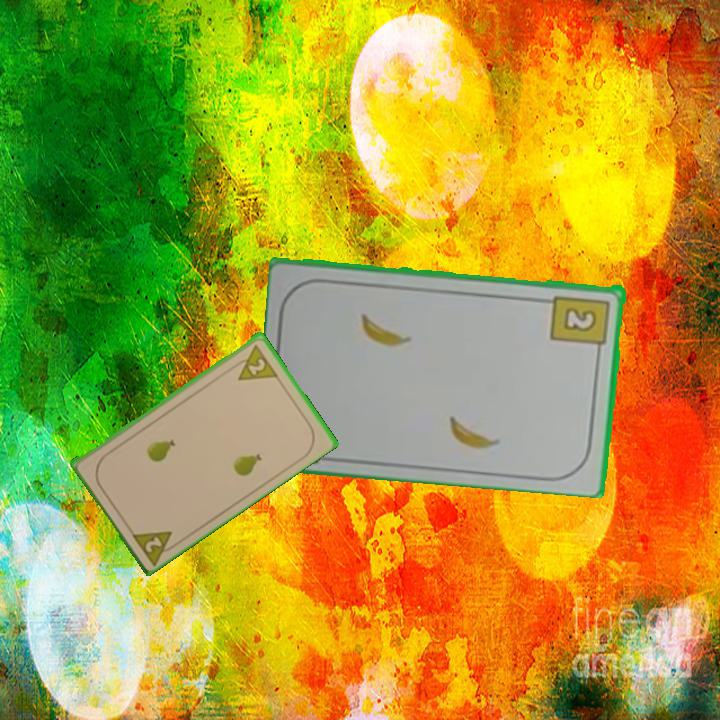2b: (548, 291, 613, 357)
2p: (228, 339, 280, 383), (127, 527, 183, 567)
